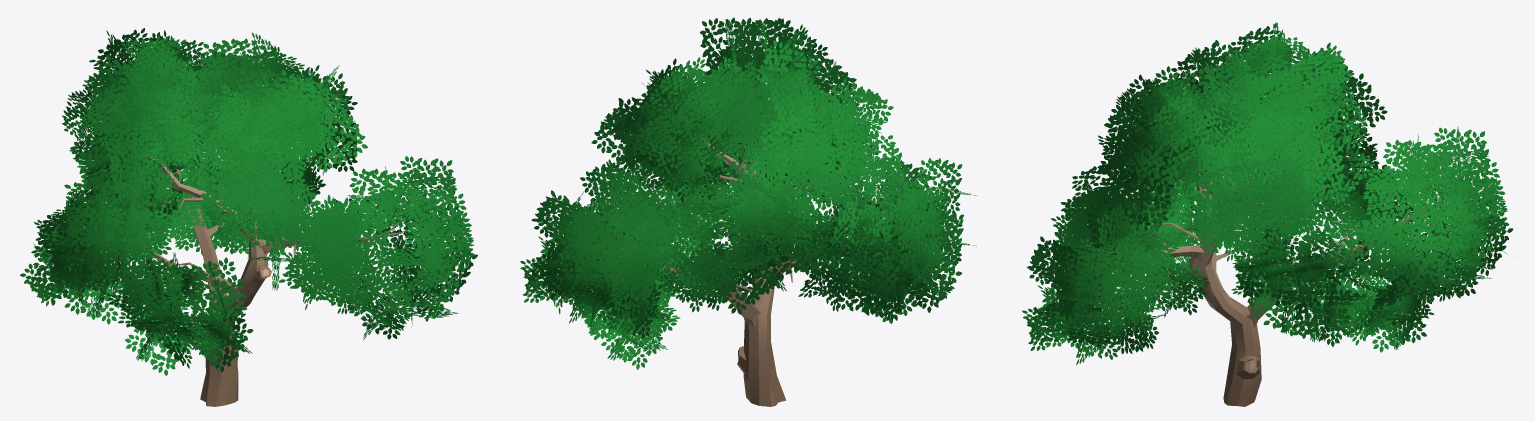
Rendered from tree.fbx.
3 renders of one model, left to right at view 1: azimuth 30°, elevation 25°; view 2: azimuth 150°, elevation 25°; view 3: azimuth 270°, elevation 25°, orthographic.
Parts seen in each view (by area): view 1: PT_Fruit_Tree_01_green_cut; view 2: PT_Fruit_Tree_01_green_cut; view 3: PT_Fruit_Tree_01_green_cut.
Boxes of the visible parts, x1,y1,x2,y2 form: PT_Fruit_Tree_01_green_cut: [20, 28, 477, 406]; PT_Fruit_Tree_01_green_cut: [520, 17, 977, 406]; PT_Fruit_Tree_01_green_cut: [1022, 22, 1513, 406].
Bounding box in the file's own units: 650 × 566 × 725.
